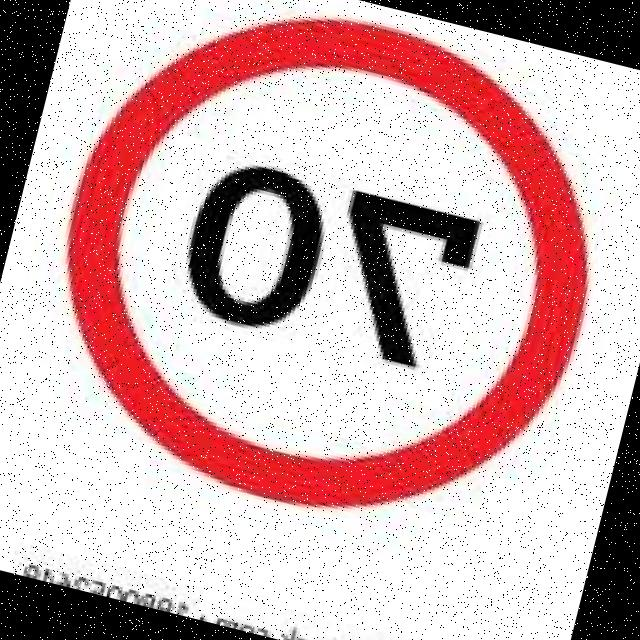speed_limit_70: (3, 0, 640, 571)
